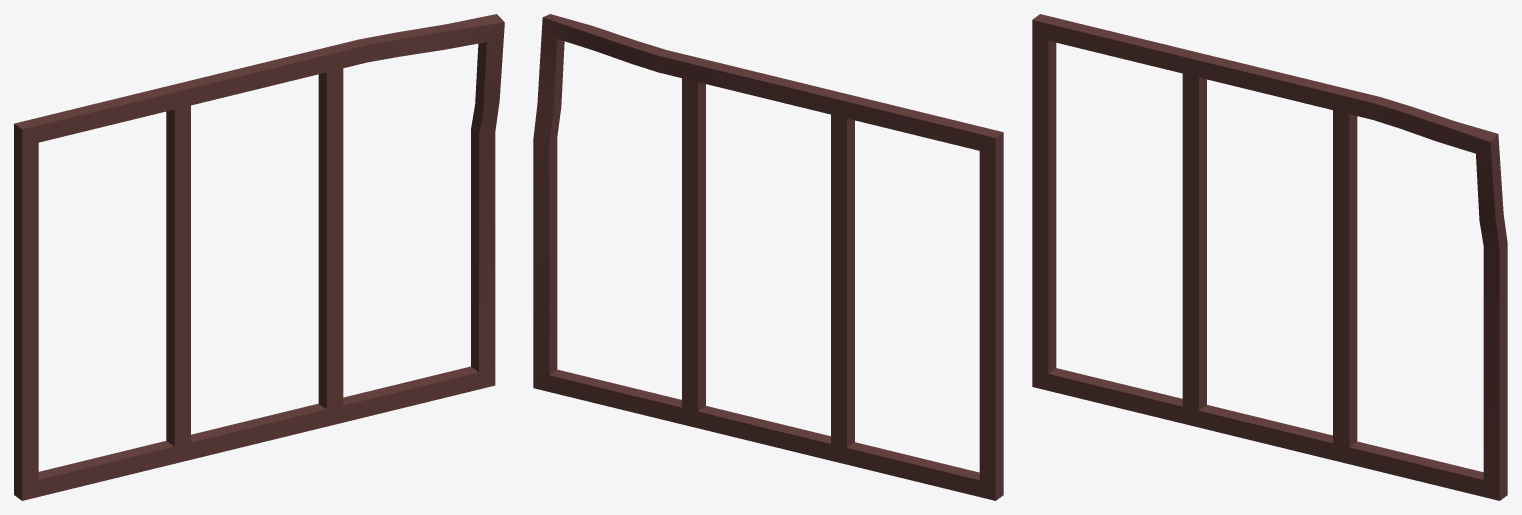
Rendered from DBK_WinWide_Metal_90.fbx.
3 views of the same model, side by side, from view 1: azimuth 30°, elevation 25°; view 2: azimuth 150°, elevation 25°; view 3: azimuth 330°, elevation 25° (orthographic). The views are drawn at different scales.
Visible parts, largest first — view 1: DBK_WinWide_Metal_90; view 2: DBK_WinWide_Metal_90; view 3: DBK_WinWide_Metal_90.
Boxes of the visible parts, x1,y1,x2,y2 form: DBK_WinWide_Metal_90: (14, 14, 504, 500); DBK_WinWide_Metal_90: (533, 14, 1003, 500); DBK_WinWide_Metal_90: (1032, 14, 1507, 500).
Size of the model in its own units: 160 by 120 by 10.26.
